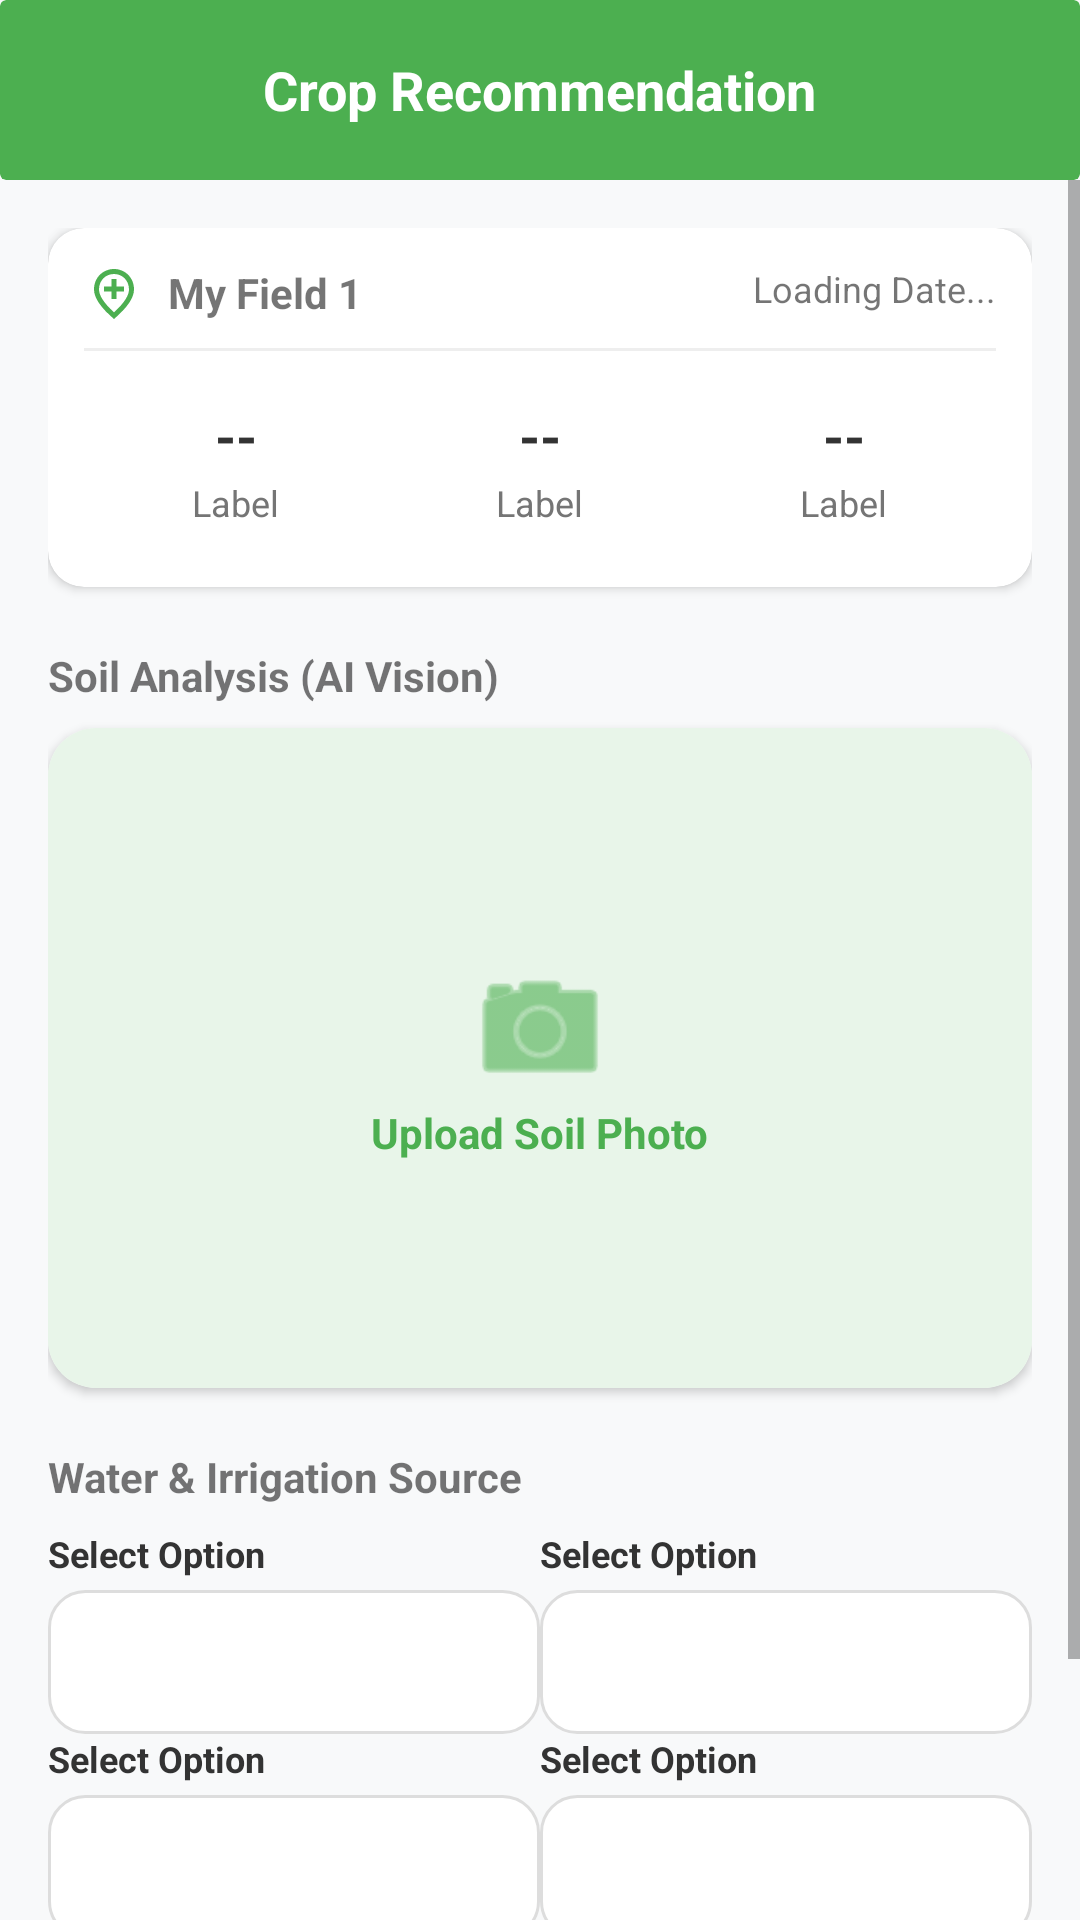

Icons on this 1080 × 1920 Android screen, each with the point to tap as (x,y):
add location: (114,294)
camera: (540,1027)
